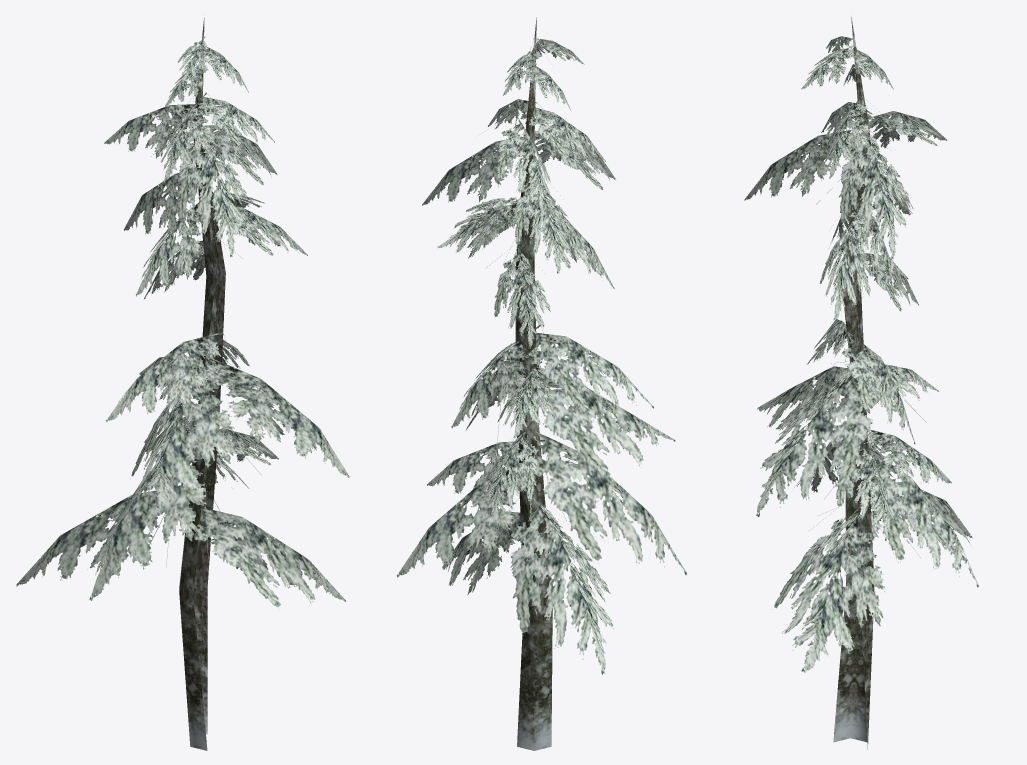
File: S_Tree_White015_1.FBX
3 views of the same model, side by side, from view 1: azimuth 30°, elevation 25°; view 2: azimuth 150°, elevation 25°; view 3: azimuth 270°, elevation 25° (orthographic).
Visible parts, largest first — view 1: S_Tree_White015_1; view 2: S_Tree_White015_1; view 3: S_Tree_White015_1.
Part boxes in pixels (x1,y1,x2,y2): S_Tree_White015_1: [16, 14, 349, 750]; S_Tree_White015_1: [397, 17, 686, 750]; S_Tree_White015_1: [744, 16, 978, 749].
Size of the model in its own units: 403 by 365 by 996.
